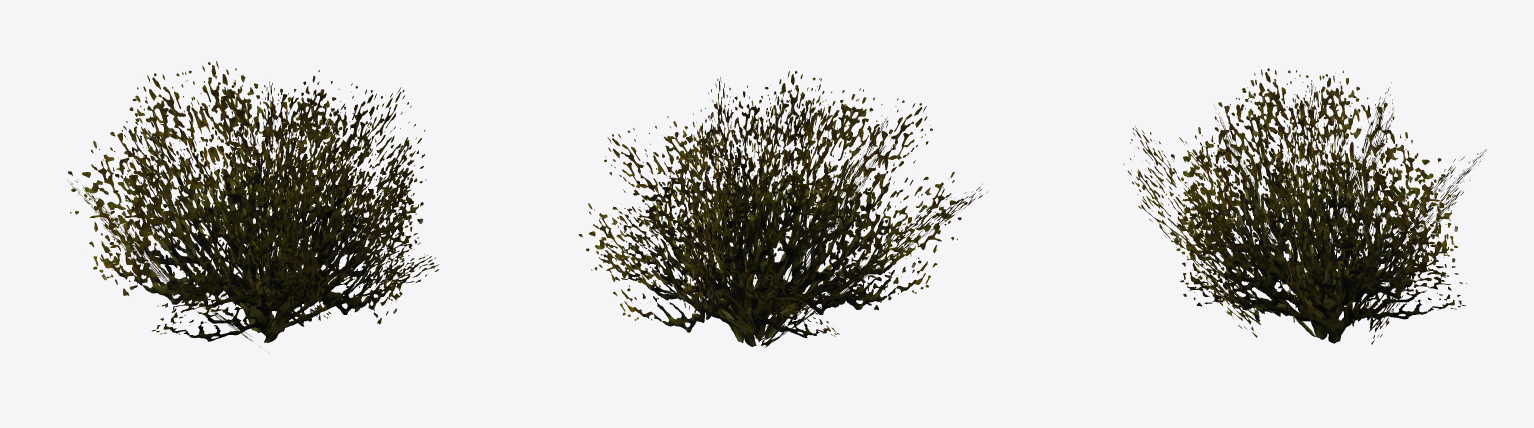
File: Foliage_Bush_Live5X5_02.glb
3 views of the same model, side by side, from view 1: azimuth 30°, elevation 25°; view 2: azimuth 150°, elevation 25°; view 3: azimuth 270°, elevation 25° (orthographic). The views are drawn at different scales.
Visible parts, largest first — view 1: FOLIAGE_BUSH_LIVE5X5_02; view 2: FOLIAGE_BUSH_LIVE5X5_02; view 3: FOLIAGE_BUSH_LIVE5X5_02.
Part boxes in pixels (x1=…): FOLIAGE_BUSH_LIVE5X5_02: x1=67, y1=61, x2=438, y2=353; FOLIAGE_BUSH_LIVE5X5_02: x1=578, y1=71, x2=988, y2=347; FOLIAGE_BUSH_LIVE5X5_02: x1=1123, y1=68, x2=1486, y2=344.
Bounding box in the file's own units: 1.51 × 1 × 1.47.
Materials: 1 (1 with a texture image).
